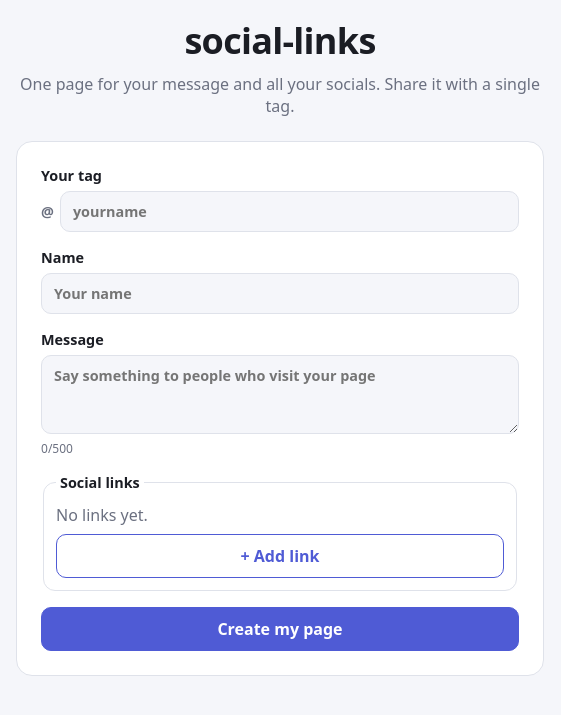
Test case: CreatePage › creates a profile, stores the token and shows it on the new page
Type "Ada" into the field with placeholder "yourname".
click(289, 212); type("Ada")  # box [60, 191, 519, 232]
Type "Ada Lovelace" into the field with placeholder "Your name".
click(280, 294); type("Ada Lovelace")  # box [41, 273, 519, 314]
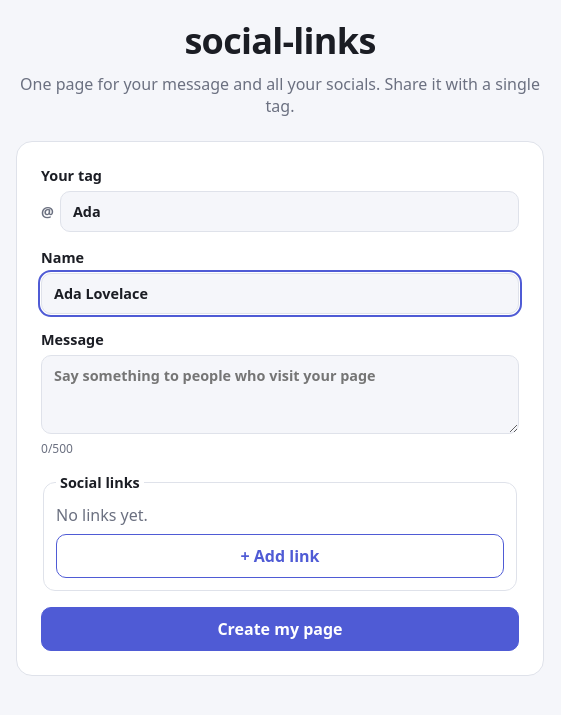
Type "Hi!" into the text box with placeholder "Say something to people who visit your page".
click(280, 394); type("Hi!")  # box [41, 355, 519, 434]
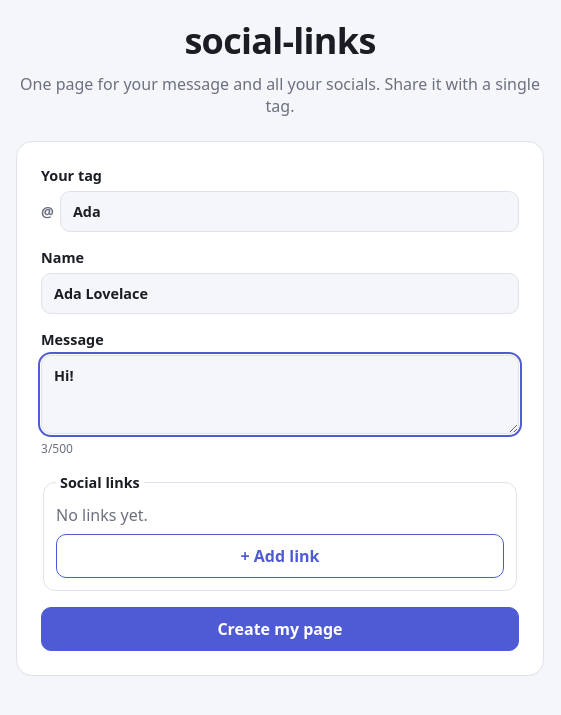
Click the button "+ Add link".
click(280, 556)  # box [56, 534, 504, 578]
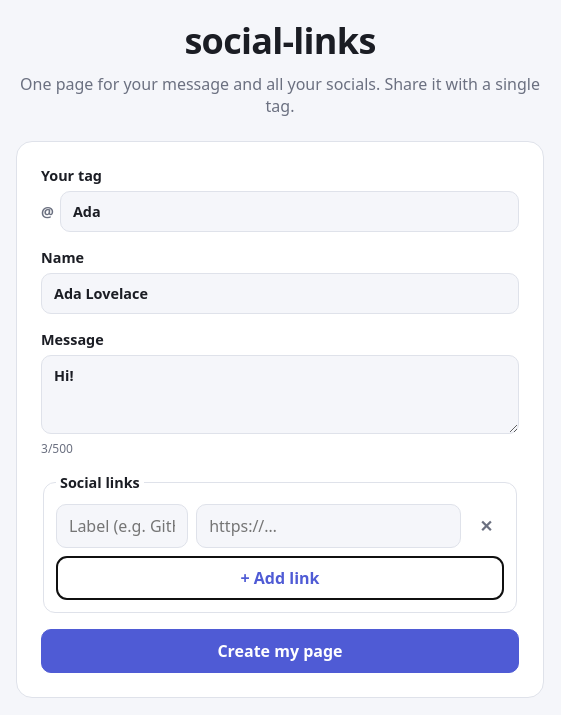
Type "GitHub" into the field named "Link 1 label".
click(122, 526); type("GitHub")  # box [56, 504, 188, 548]
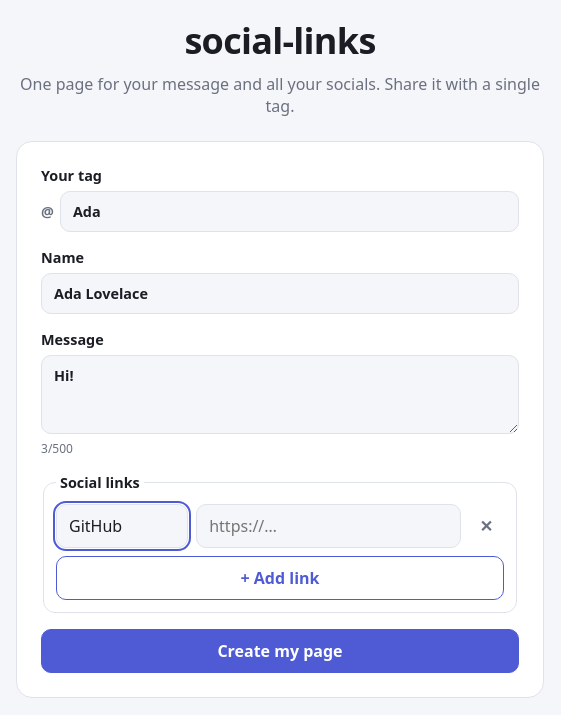
Type " https://github.com/ada " into the field named "Link 1 URL".
click(328, 526); type(" https://github.com/ada ")  # box [196, 504, 461, 548]
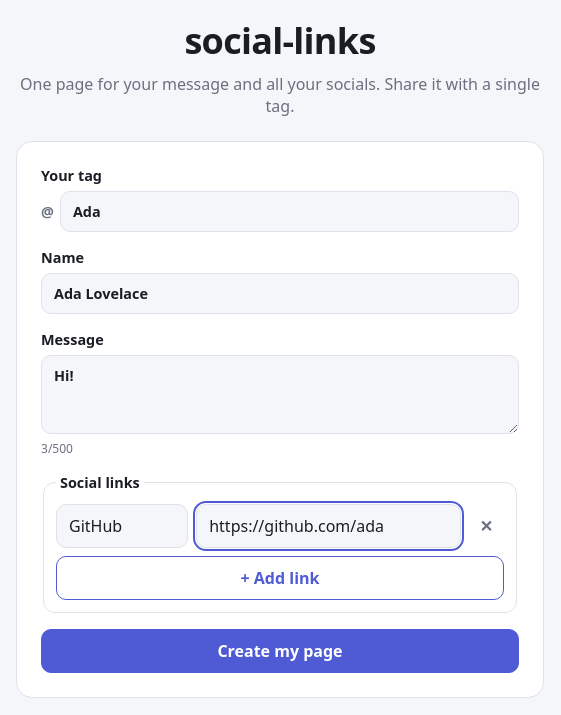
Click the button "Create my page".
click(280, 651)  # box [41, 629, 519, 673]
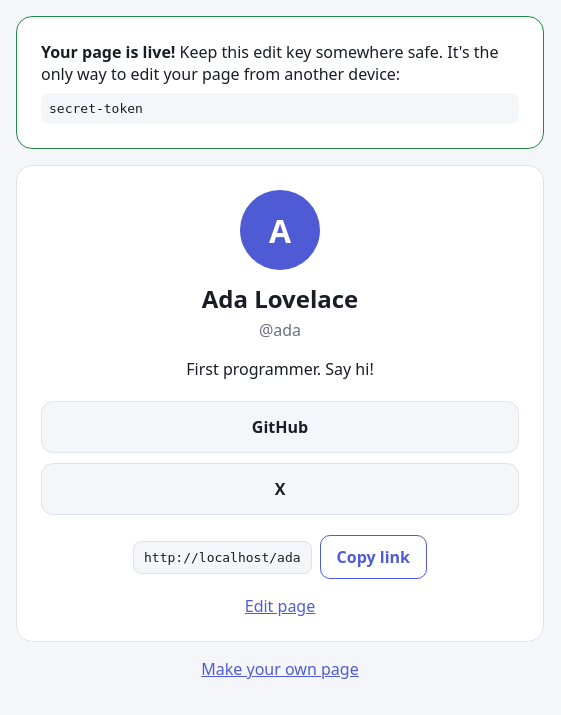
Expected: the heading "Ada Lovelace" is shown, [202, 282, 358, 315]
Expected: the element that starts with "Your page is live!" shows "secret-token", [49, 101, 143, 116]
Expected: the text "secret-token" is shown, [41, 93, 519, 124]
